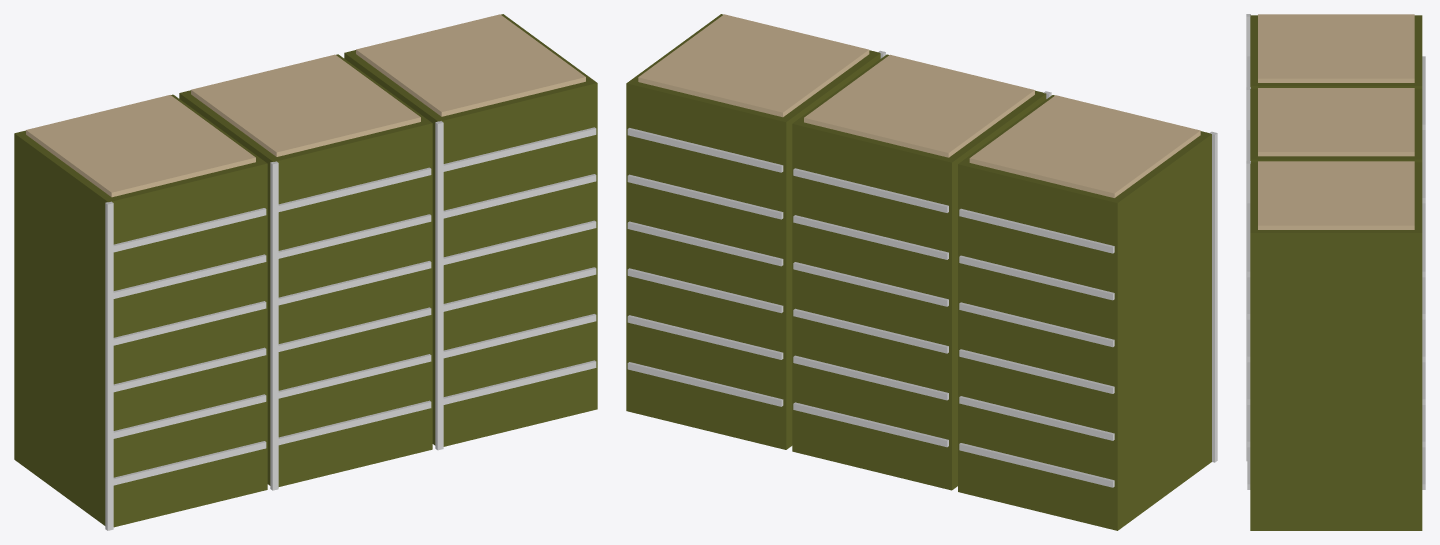
The model's file is SM_HescoCorto3_v1_Geotextil_e0_Sano_LOD0.fbx.
3 renders of one model, left to right at view 1: azimuth 30°, elevation 25°; view 2: azimuth 150°, elevation 25°; view 3: azimuth 270°, elevation 25°, orthographic. The views are drawn at different scales.
Parts seen in each view (by area): view 1: SM_hesco_piezas_v84_LOD0; view 2: SM_hesco_piezas_v84_LOD0; view 3: SM_hesco_piezas_v84_LOD0.
Boxes of the visible parts, box(x1,y1,x2,y2) form: SM_hesco_piezas_v84_LOD0: box(14, 14, 597, 530); SM_hesco_piezas_v84_LOD0: box(626, 14, 1217, 530); SM_hesco_piezas_v84_LOD0: box(1246, 14, 1425, 530).
Size of the model in its own units: 3.31 by 2.13 by 1.14.
